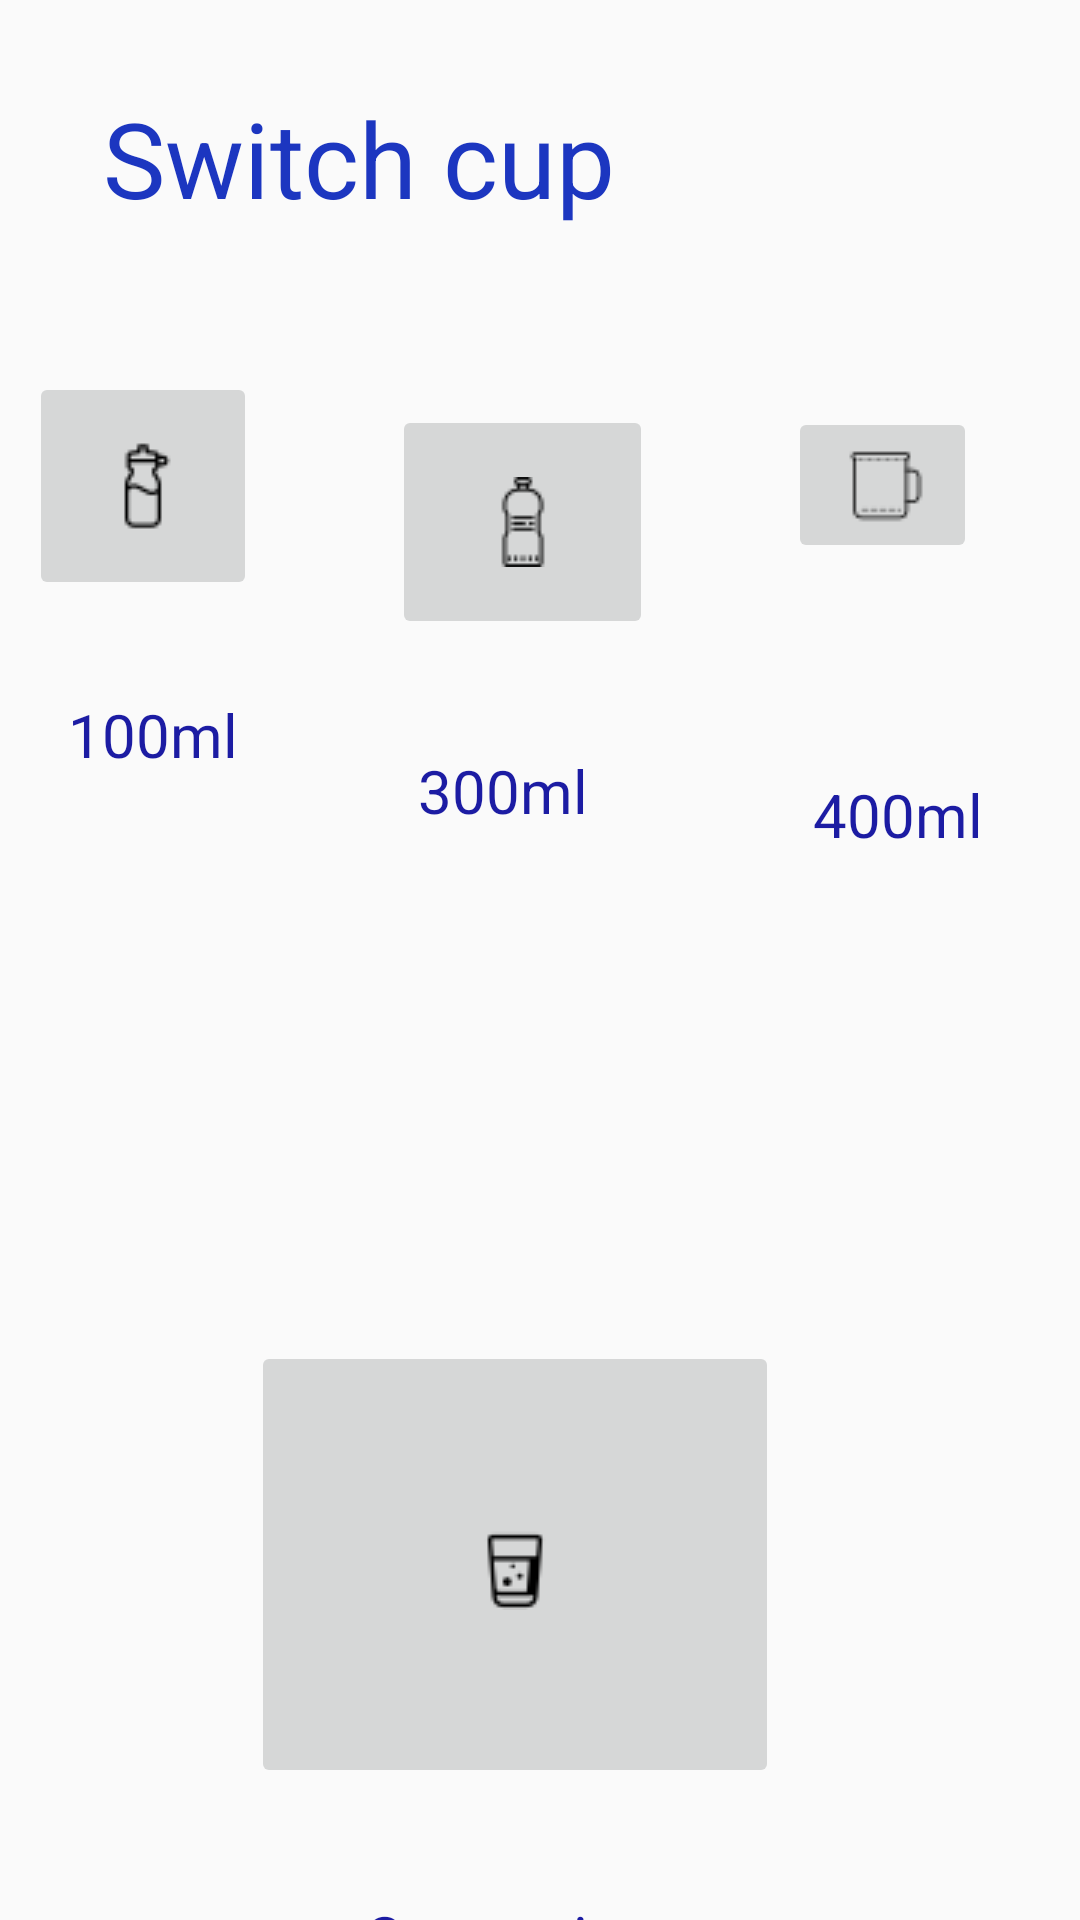

Locate icon controls on the screen. Image size 1080px×1920px, boxes as (x1=x1, y1=y1, x2=x2, y2=y2).
cup: (x1=800, y1=425, x2=965, y2=545)
lgbottle: (x1=404, y1=423, x2=641, y2=621)
smbottle: (x1=41, y1=390, x2=245, y2=582)
